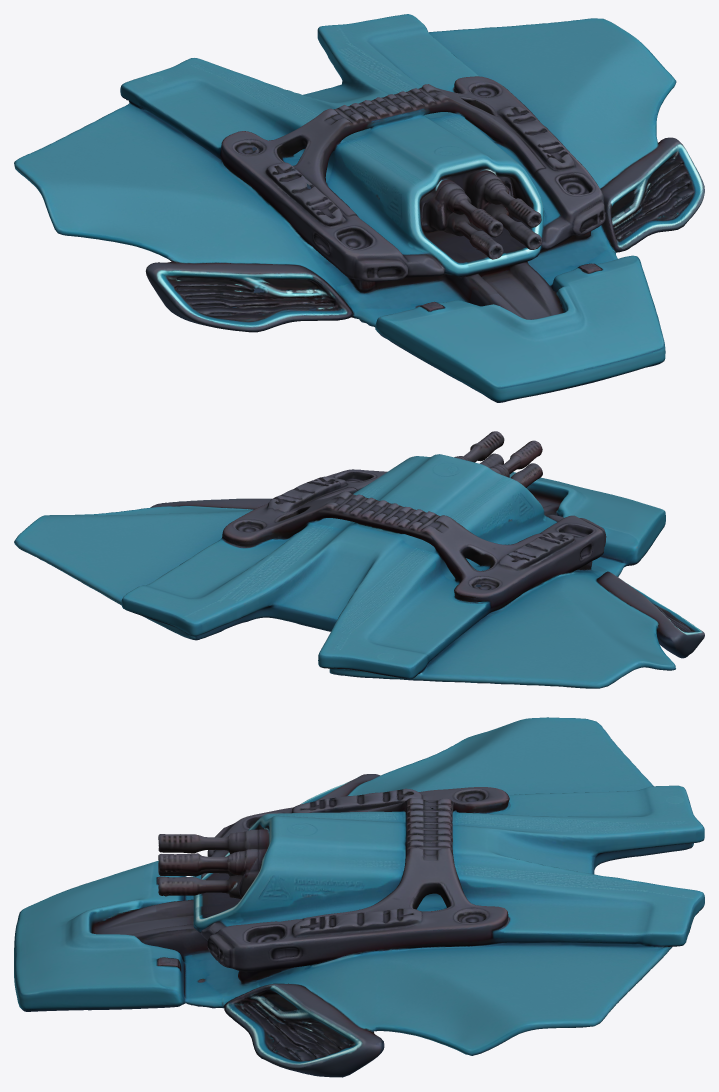
File: tripo_convert_82a31b84-11e1-410b-818c-8049a05378d3.fbx
3 renders of one model, top to bottom at view 1: azimuth 30°, elevation 25°; view 2: azimuth 150°, elevation 25°; view 3: azimuth 270°, elevation 25°, orthographic. The views are drawn at different scales.
Parts seen in each view (by area): view 1: tripo_node_82a31b84; view 2: tripo_node_82a31b84; view 3: tripo_node_82a31b84.
Boxes of the visible parts, x1,y1,x2,y2 form: tripo_node_82a31b84: (14,14,704,402); tripo_node_82a31b84: (14,431,704,688); tripo_node_82a31b84: (14,717,704,1077).
Bounding box in the file's own units: 0.9775 × 0.2136 × 0.9006.
Materials: 1 (1 with a texture image).
